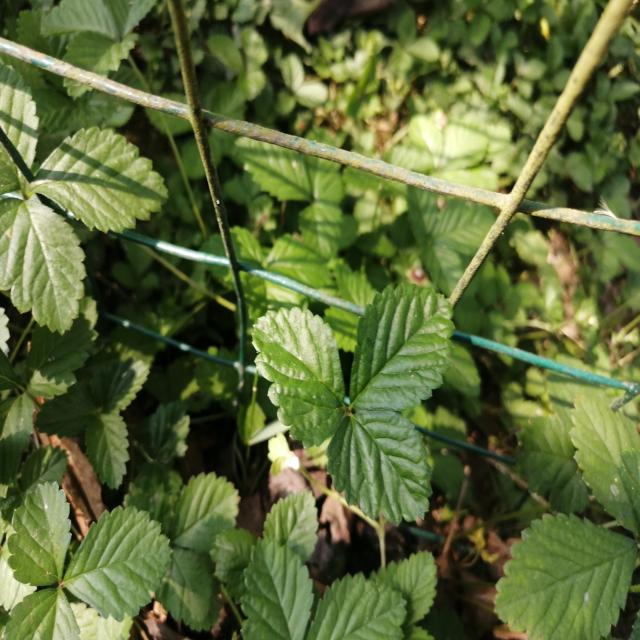Mock_strawberry: (260, 278, 447, 510)
